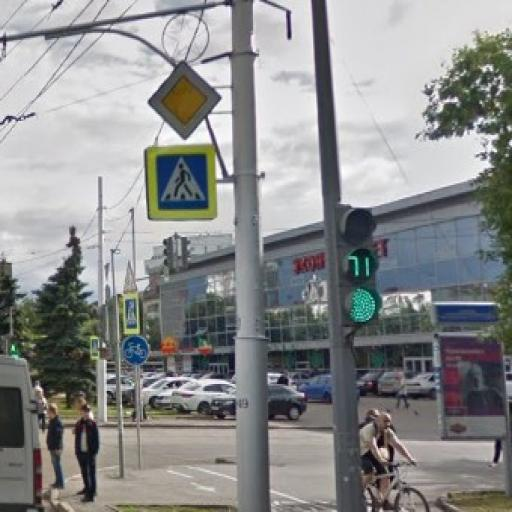traffic_sign: (142, 145, 221, 224), (148, 60, 224, 141), (122, 335, 152, 368), (123, 294, 141, 337), (90, 335, 102, 362)
